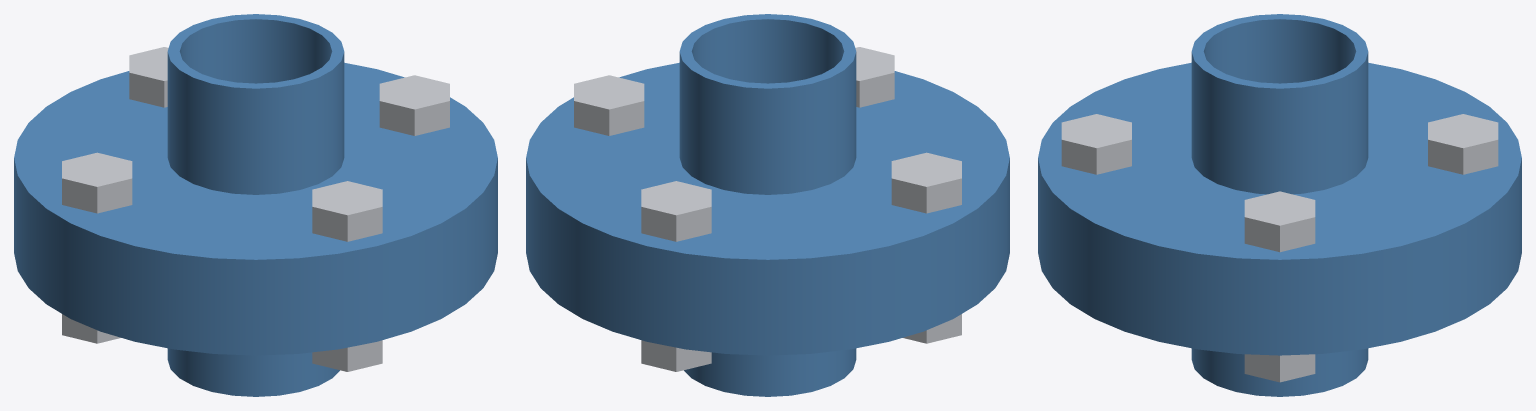
Rendered from flange_joint.glb.
3 views of the same model, side by side, from view 1: azimuth 30°, elevation 25°; view 2: azimuth 150°, elevation 25°; view 3: azimuth 270°, elevation 25° (orthographic).
Parts seen in each view (by area): view 1: flange_b, pipe_b, flange_a, pipe_a, bolt_head_1, bolt_head_3, bolt_head_4, bolt_head_2, nut_4, nut_3; view 2: flange_b, pipe_b, flange_a, pipe_a, bolt_head_1, bolt_head_2, bolt_head_3, bolt_head_4, nut_2, nut_3; view 3: flange_b, pipe_b, flange_a, pipe_a, bolt_head_1, bolt_head_2, bolt_head_4, nut_1.
Boxes of the visible parts, x1,y1,x2,y2 form: flange_b: [14, 62, 497, 307]; pipe_b: [167, 14, 344, 194]; flange_a: [14, 206, 497, 355]; pipe_a: [167, 348, 339, 396]; bolt_head_1: [379, 75, 449, 135]; bolt_head_3: [62, 152, 132, 213]; bolt_head_4: [312, 181, 382, 241]; bolt_head_2: [129, 47, 168, 107]; nut_4: [312, 340, 382, 371]; nut_3: [62, 314, 120, 343]; flange_b: [526, 62, 1009, 307]; pipe_b: [679, 14, 856, 194]; flange_a: [526, 206, 1009, 355]; pipe_a: [684, 348, 856, 396]; bolt_head_1: [574, 75, 644, 135]; bolt_head_2: [641, 181, 711, 241]; bolt_head_3: [891, 152, 961, 213]; bolt_head_4: [855, 47, 894, 107]; nut_2: [641, 340, 711, 371]; nut_3: [903, 314, 961, 343]; flange_b: [1038, 62, 1521, 307]; pipe_b: [1191, 14, 1368, 194]; flange_a: [1038, 206, 1521, 355]; pipe_a: [1191, 348, 1368, 396]; bolt_head_1: [1244, 191, 1315, 252]; bolt_head_2: [1428, 114, 1498, 174]; bolt_head_4: [1061, 114, 1131, 174]; nut_1: [1244, 354, 1315, 382].
Size of the model in its own units: 0.165 by 0.116 by 0.165.
